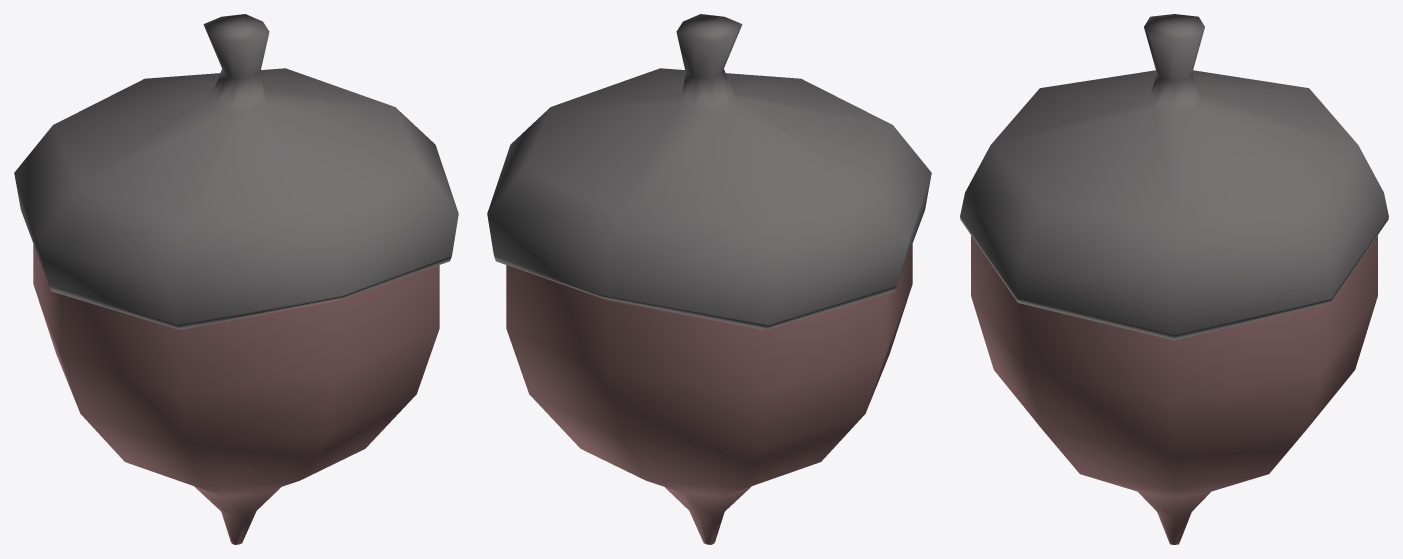
Rendered from nues.fbx.
The picture shows the model from 3 angles, left to right: view 1: azimuth 30°, elevation 25°; view 2: azimuth 150°, elevation 25°; view 3: azimuth 270°, elevation 25°; orthographic projection.
Parts seen in each view (by area): view 1: Setas:polySurface10, Setas:polySurface11; view 2: Setas:polySurface10, Setas:polySurface11; view 3: Setas:polySurface10, Setas:polySurface11.
Part boxes in pixels (x1,y1,x2,y2): Setas:polySurface10: (14,14,458,329); Setas:polySurface11: (33,244,439,544); Setas:polySurface10: (487,14,931,329); Setas:polySurface11: (506,244,912,544); Setas:polySurface10: (960,14,1388,340); Setas:polySurface11: (971,235,1377,544).
Bounding box in the file's own units: 6.96 × 8.59 × 6.48.
